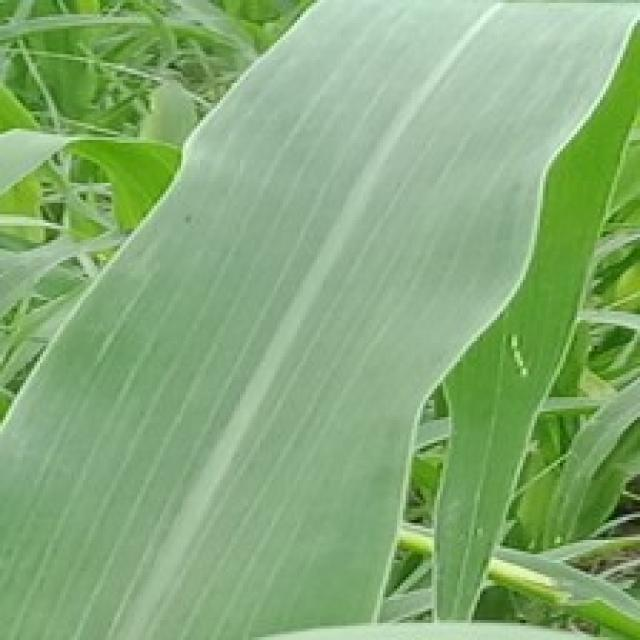Corn: (0, 0, 637, 637), (426, 3, 637, 620)
